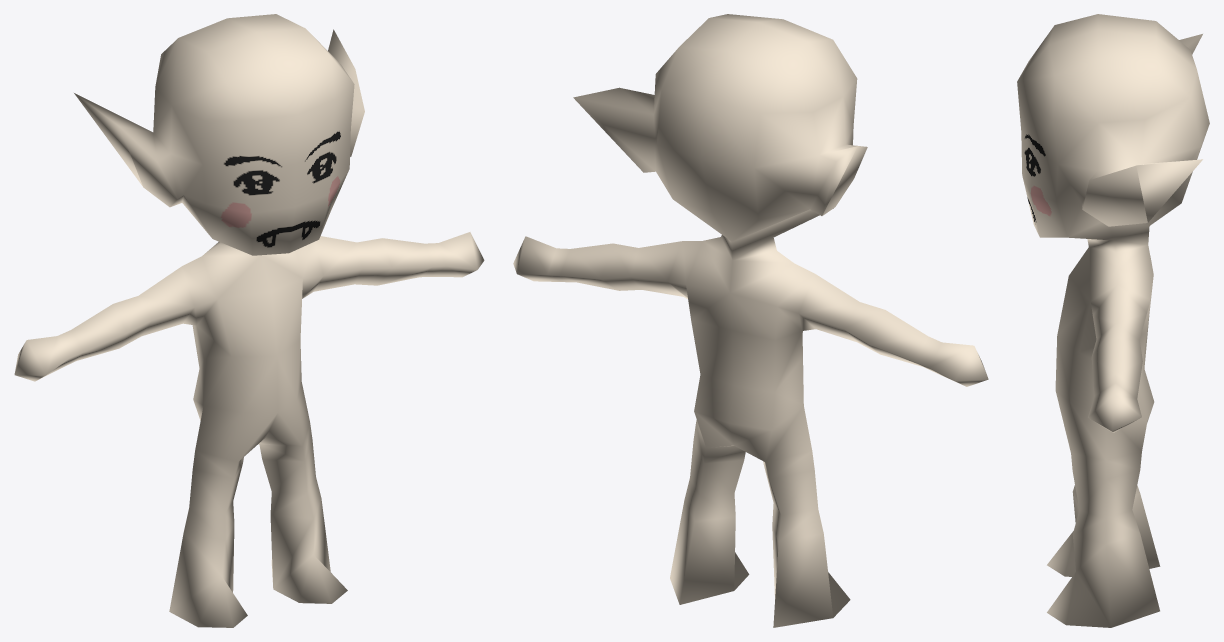
The model's file is character_test.DAE.
3 renders of one model, left to right at view 1: azimuth 30°, elevation 25°; view 2: azimuth 150°, elevation 25°; view 3: azimuth 270°, elevation 25°, orthographic. The views are drawn at different scales.
Visible parts, largest first — view 1: Object01; view 2: Object01; view 3: Object01.
Boxes of the visible parts, left/top/right/bottom form: Object01: left=14, top=14, right=484, bottom=627; Object01: left=513, top=14, right=988, bottom=627; Object01: left=1017, top=14, right=1209, bottom=627.
Size of the model in its own units: 5.66 by 2.03 by 6.49.
2 materials, 1 textured.
